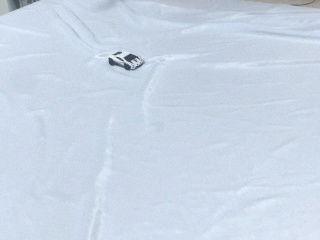toy_car: (109, 51, 144, 70)
